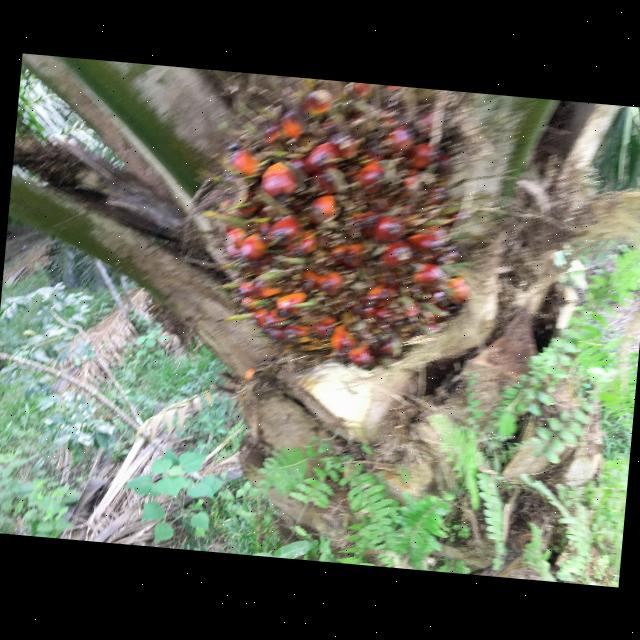Ripe: (188, 81, 475, 371)
